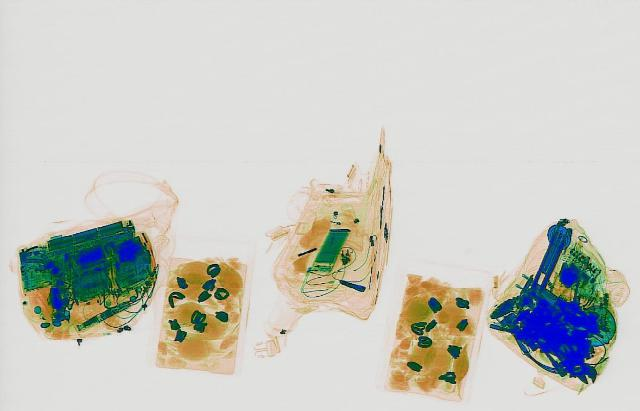Wrench: (547, 334, 603, 386)
